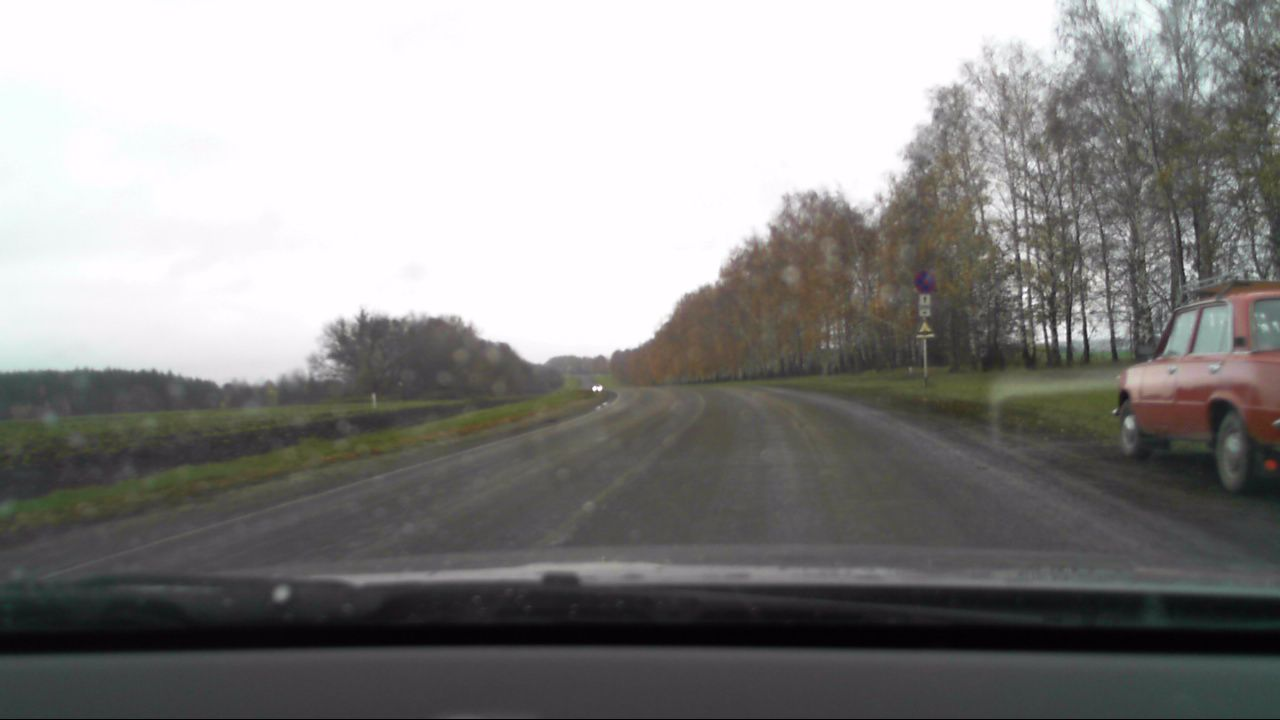No Parking: (912, 270, 936, 293)
